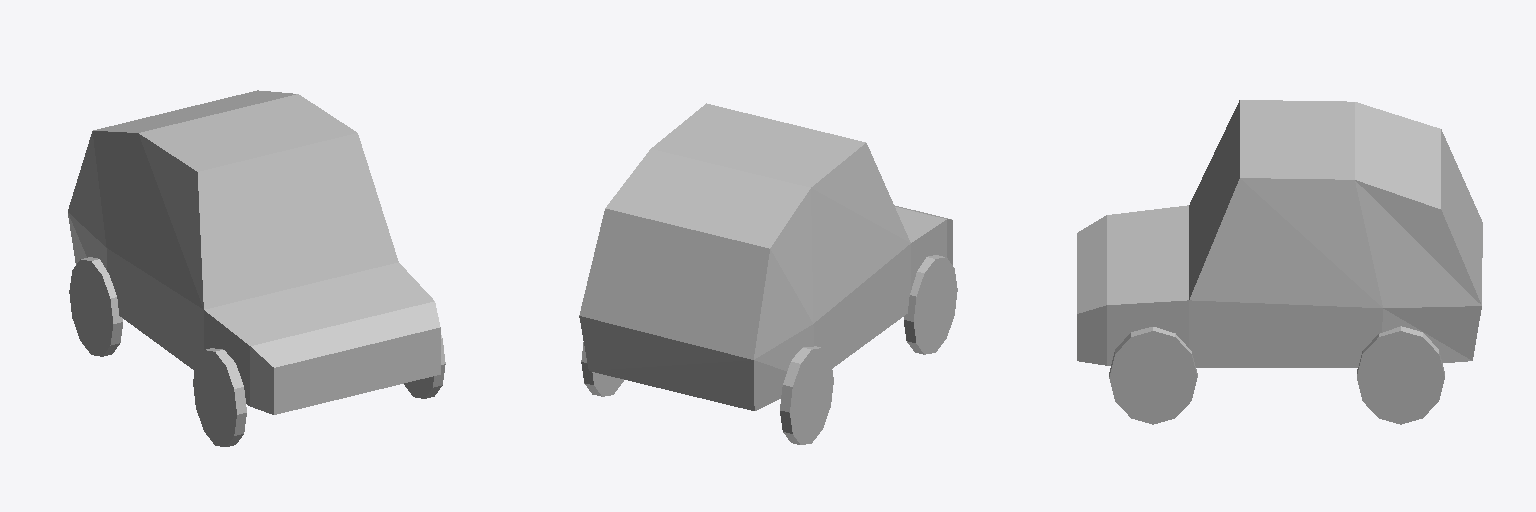
The model's file is car_01.obj.
3 views of the same model, side by side, from view 1: azimuth 30°, elevation 25°; view 2: azimuth 150°, elevation 25°; view 3: azimuth 270°, elevation 25° (orthographic).
Parts seen in each view (by area): view 1: Car_Body, Wheels_Cylinder; view 2: Car_Body, Wheels_Cylinder; view 3: Car_Body, Wheels_Cylinder.
Part boxes in pixels (bbox=[...]): Car_Body: bbox=[68, 90, 440, 414]; Wheels_Cylinder: bbox=[69, 257, 445, 446]; Car_Body: bbox=[579, 103, 952, 410]; Wheels_Cylinder: bbox=[581, 255, 957, 444]; Car_Body: bbox=[1077, 100, 1482, 367]; Wheels_Cylinder: bbox=[1109, 326, 1444, 424].
Size of the model in its own units: 1.66 by 1.8 by 2.8.